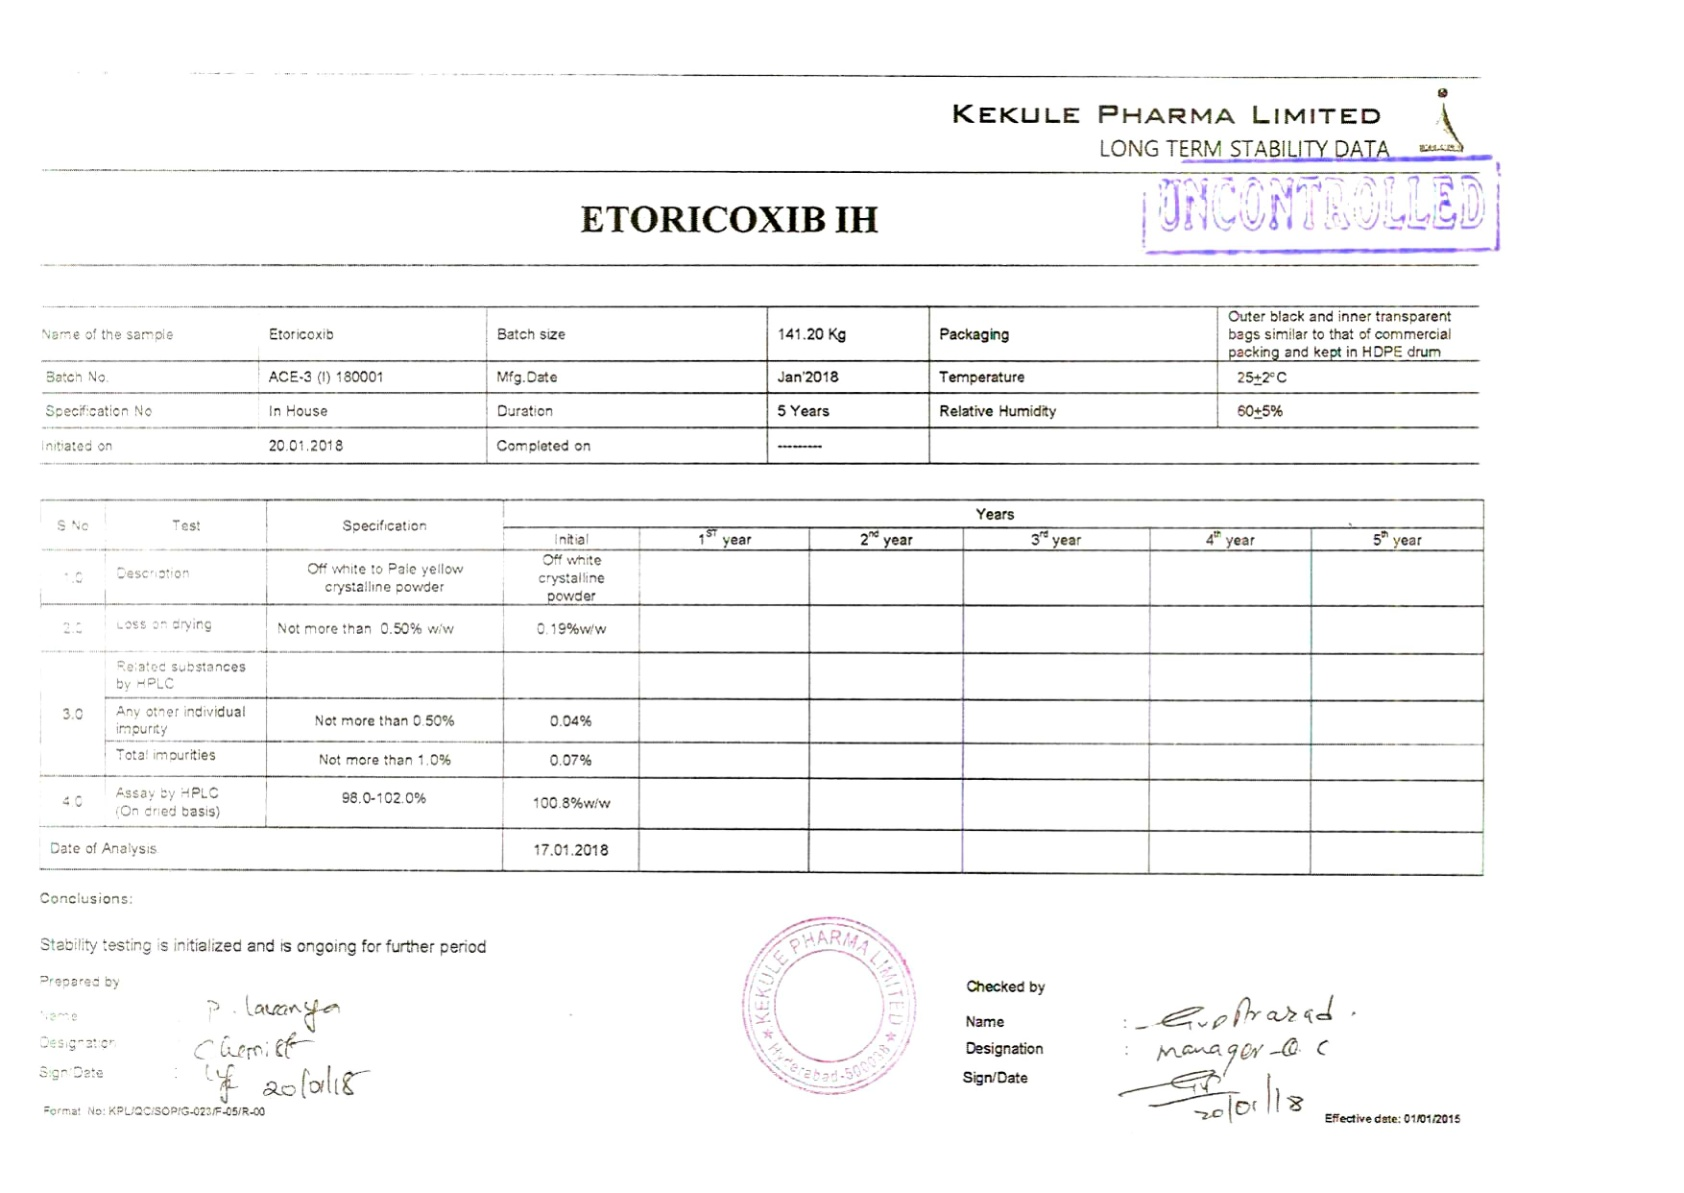merged_cells: (40, 496, 1486, 882)
partial_lined: (39, 301, 1486, 462)
